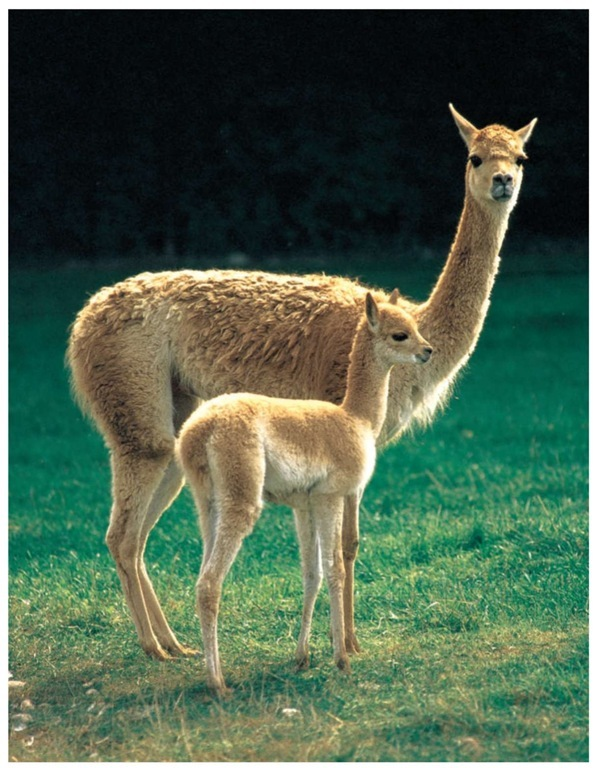eye: (387, 332, 416, 345), (513, 158, 535, 173), (471, 153, 484, 176)
mouth: (487, 182, 516, 208), (416, 346, 444, 368)
